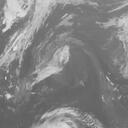cyclone: (34, 43, 96, 89)
